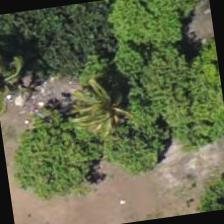Kelapa_Sawit: (54, 58, 156, 160)
